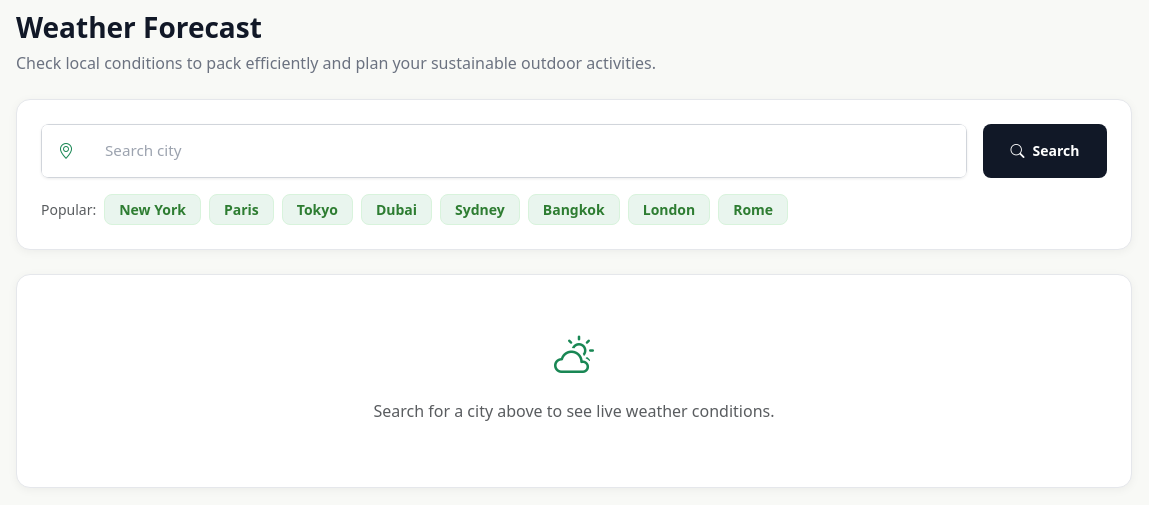
Test case: WeatherPage › shows city-not-found error on 404 response
The width and height of the screenshot is (1149, 505).
Type "NoSuchCity" into the field with placeholder "Search city" at (528, 151), box 89,124 -> 967,178
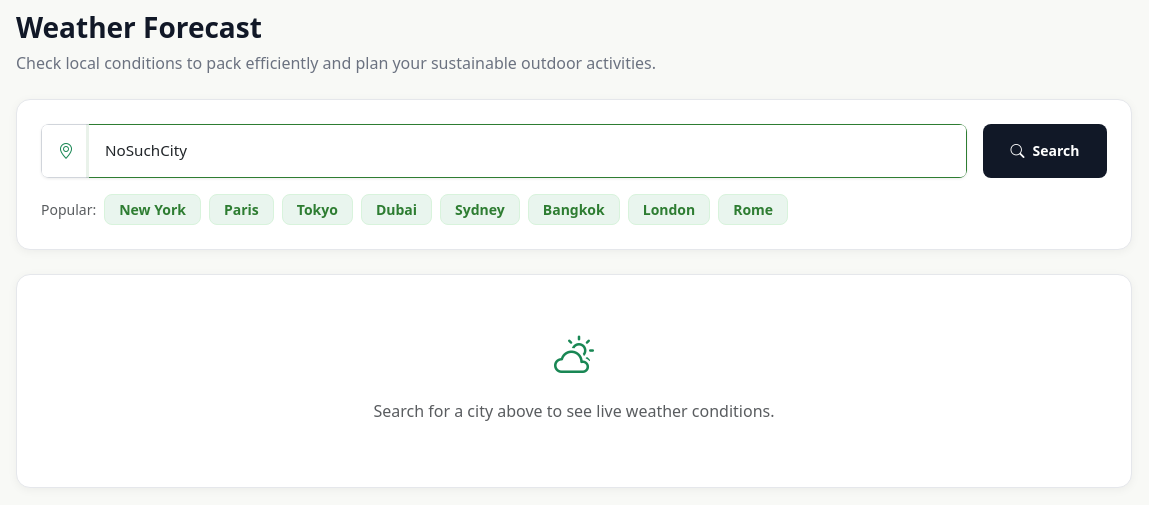
Click the button "Search" at (1045, 151), box 983,124 -> 1107,178
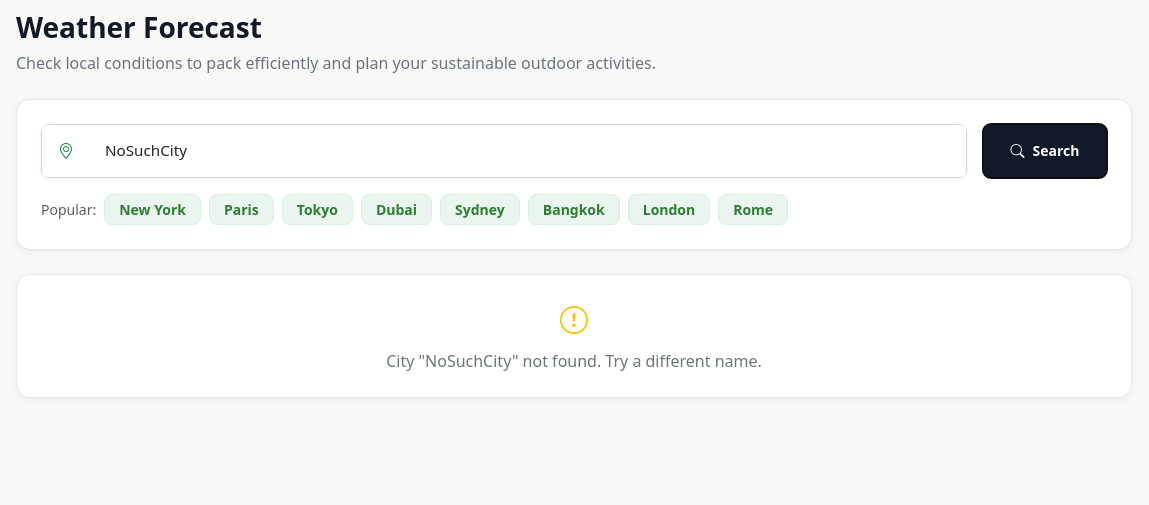
expect the text "City \"NoSuchCity\" not found. Try a different name." is shown: met, box 386,350 -> 762,372
